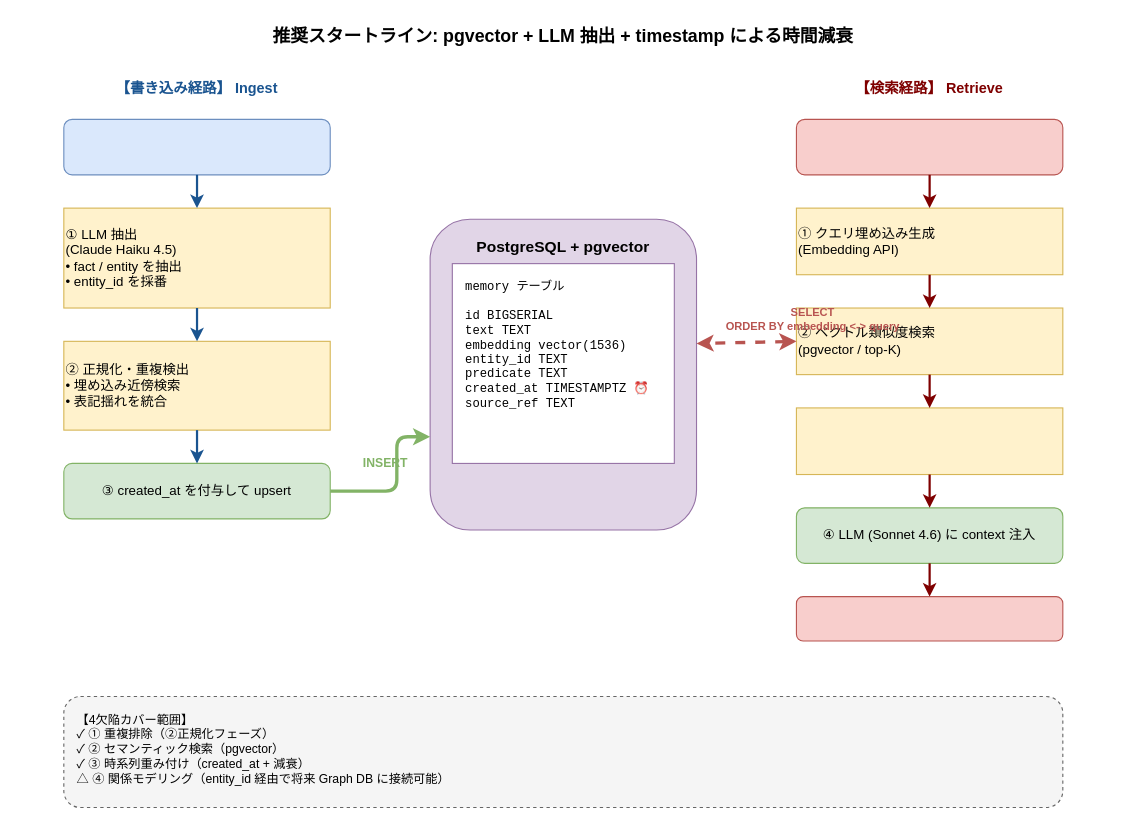
The diagram is 1126 pixels wide and 827 high, and some of its shapes have lost their labels. Each missing label, with the centre of its shape:
③ 時間減衰リランキング score = sim × exp(-λ × age): the point at 929,441
ユーザー会話 / 文書: the point at 196,146
応答: the point at 929,618
検索クエリ: the point at 929,146
